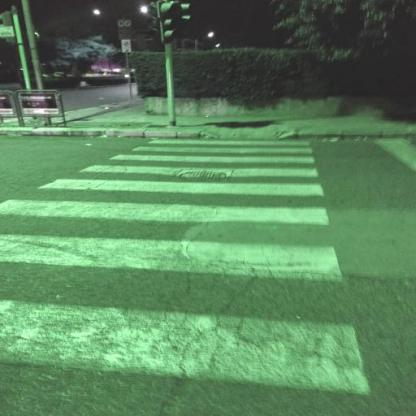crosswalk: (0, 228, 376, 405), (34, 163, 333, 199)
